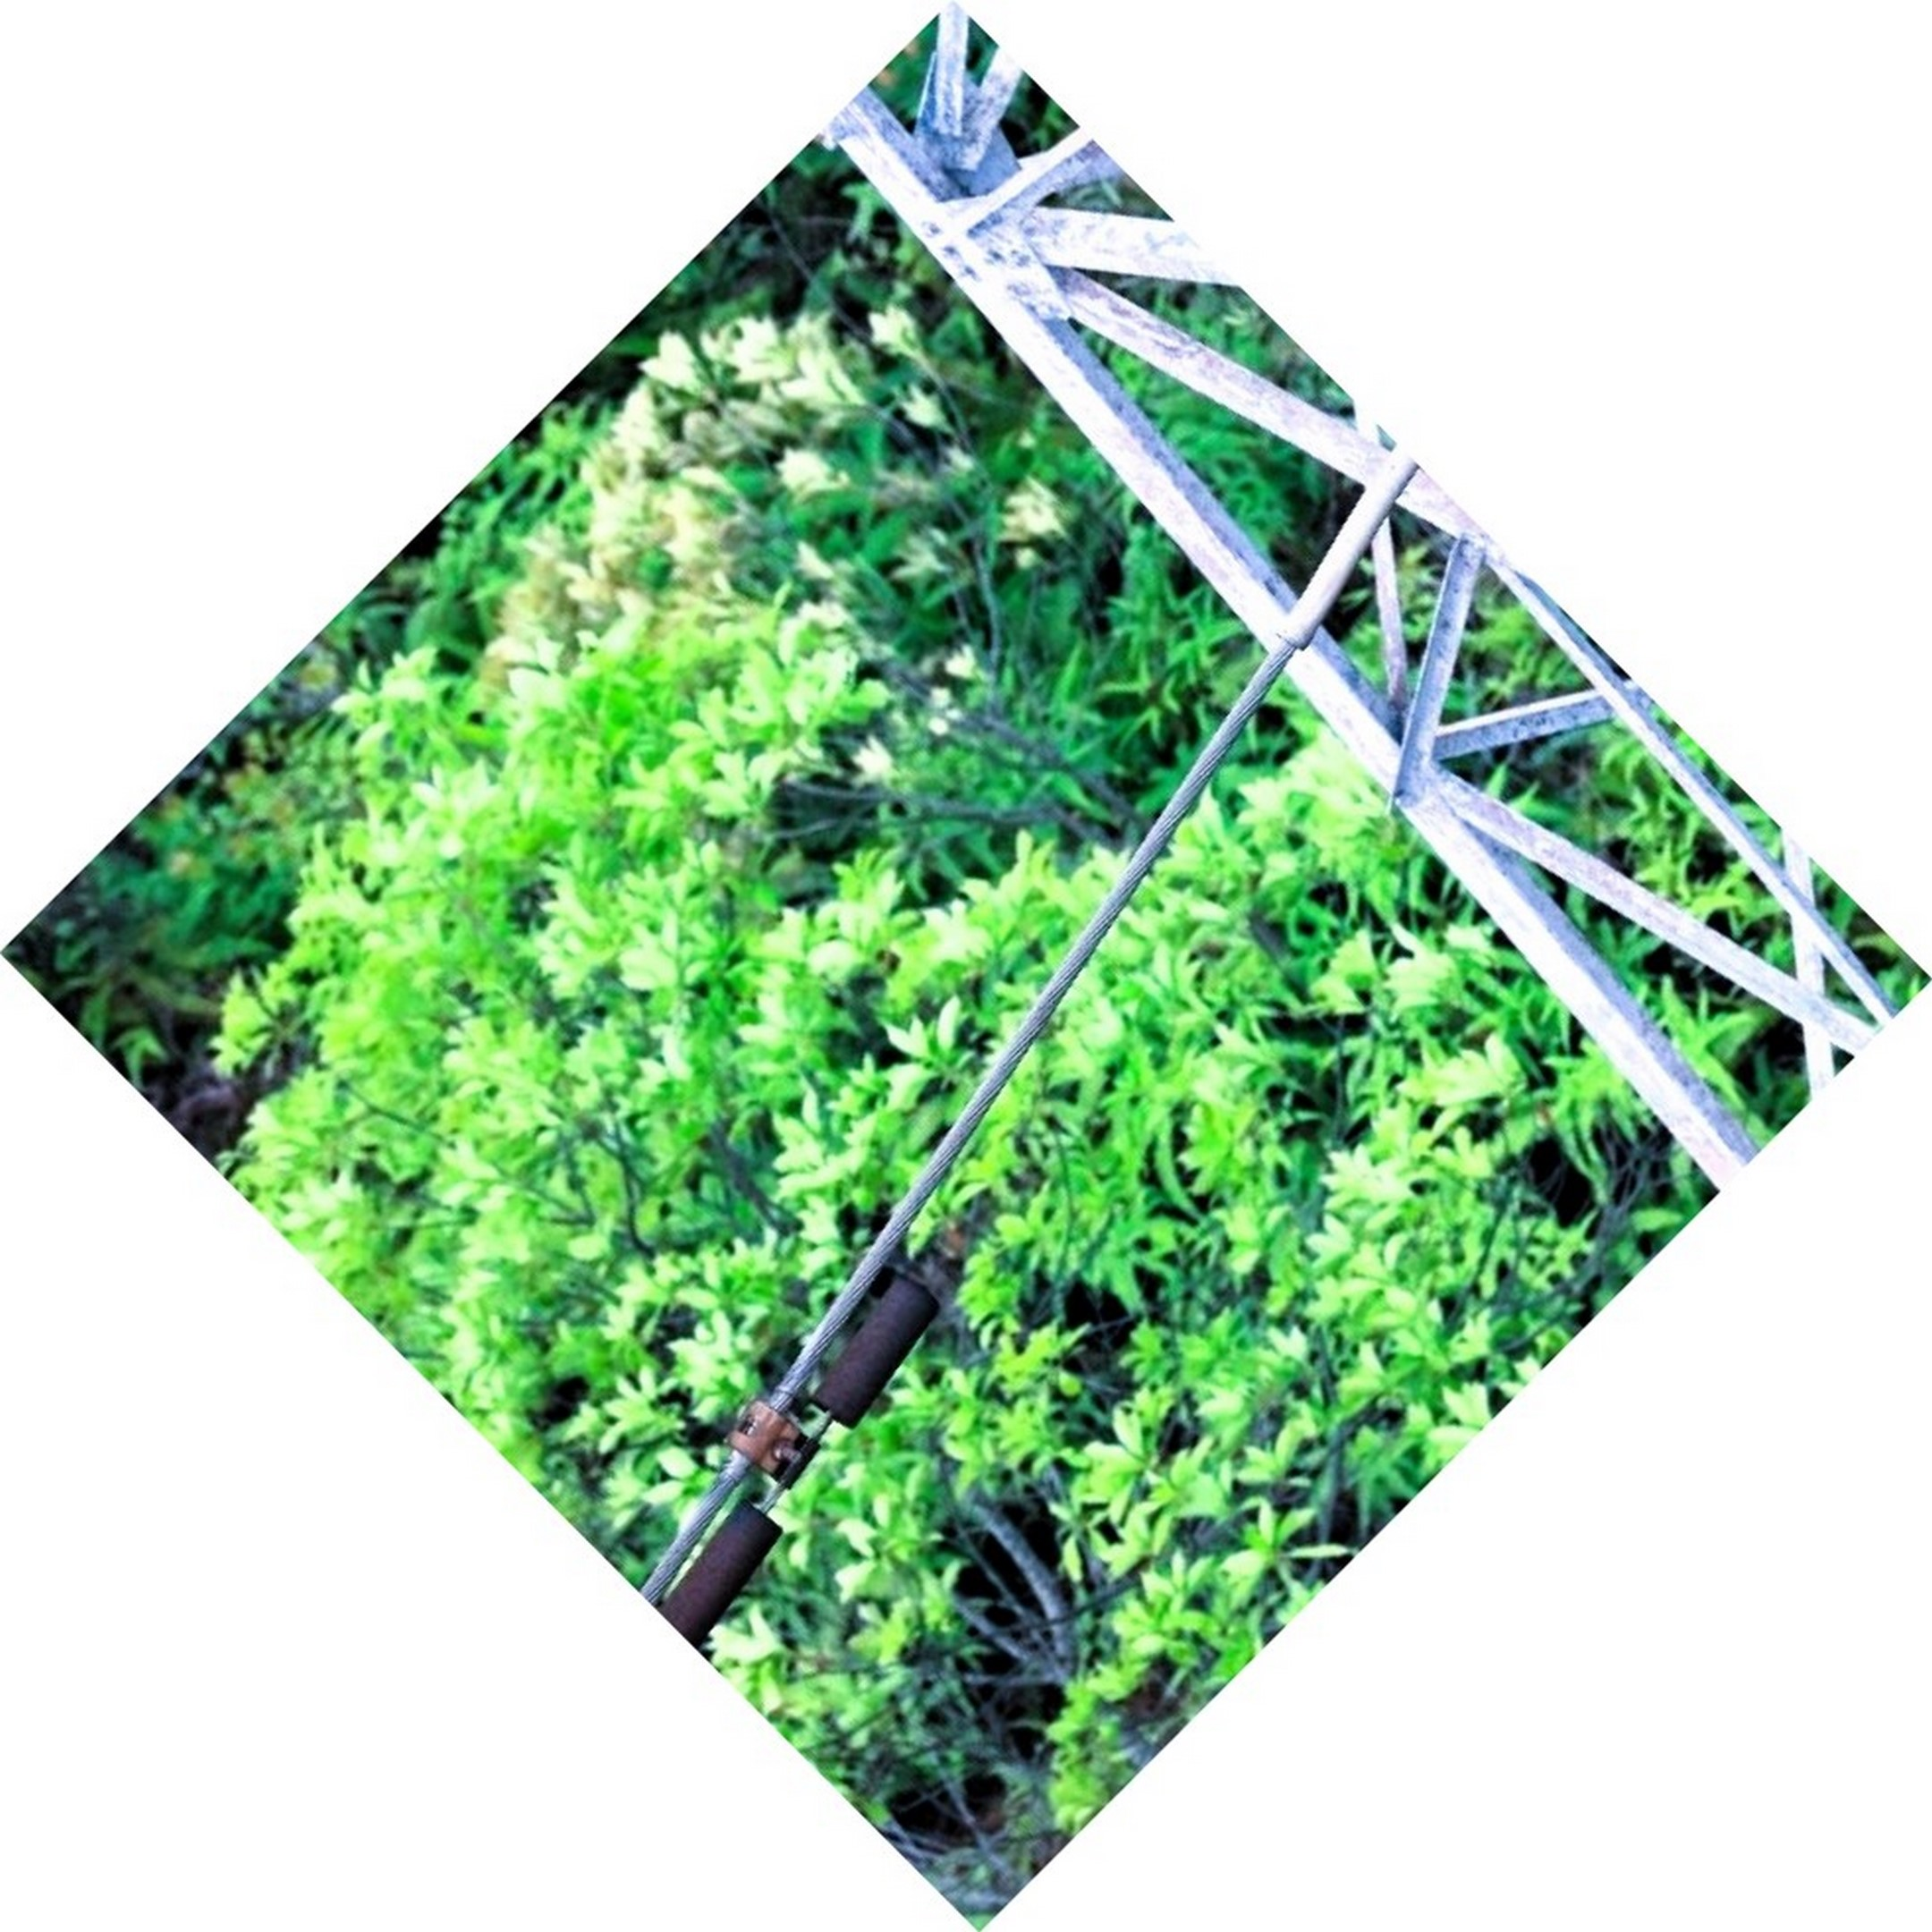Shockproof hammer: (644, 1240, 962, 1649)
